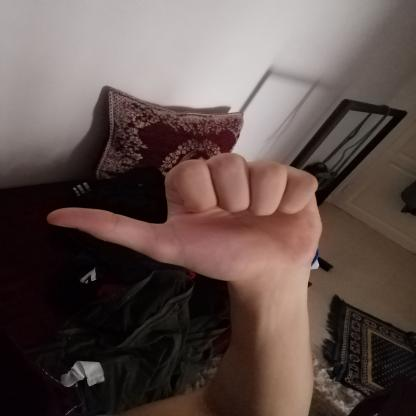DAD: (30, 143, 346, 300)
